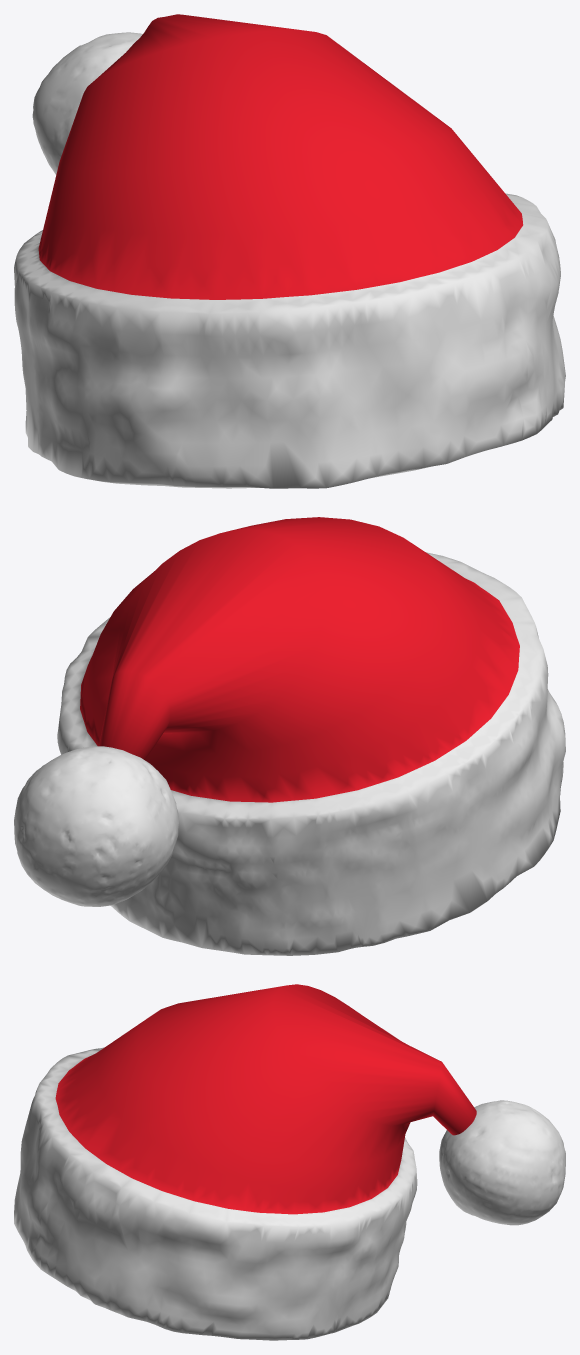
Rendered from christmasHat.fbx.
The picture shows the model from 3 angles, top to bottom: view 1: azimuth 30°, elevation 25°; view 2: azimuth 150°, elevation 25°; view 3: azimuth 270°, elevation 25°; orthographic projection. The views are drawn at different scales.
Parts seen in each view (by area): view 1: ChirstmanHat, ChristmasHatBubble; view 2: ChirstmanHat, ChristmasHatBubble; view 3: ChirstmanHat, ChristmasHatBubble.
Boxes of the visible parts, x1=… form: ChirstmanHat: x1=14, y1=14, x2=565, y2=488; ChristmasHatBubble: x1=32, y1=32, x2=142, y2=174; ChirstmanHat: x1=57, y1=517, x2=565, y2=955; ChristmasHatBubble: x1=14, y1=746, x2=178, y2=906; ChirstmanHat: x1=14, y1=984, x2=476, y2=1340; ChristmasHatBubble: x1=439, y1=1100, x2=565, y2=1225.
Size of the model in its own units: 2.08 by 1.66 by 2.88.
